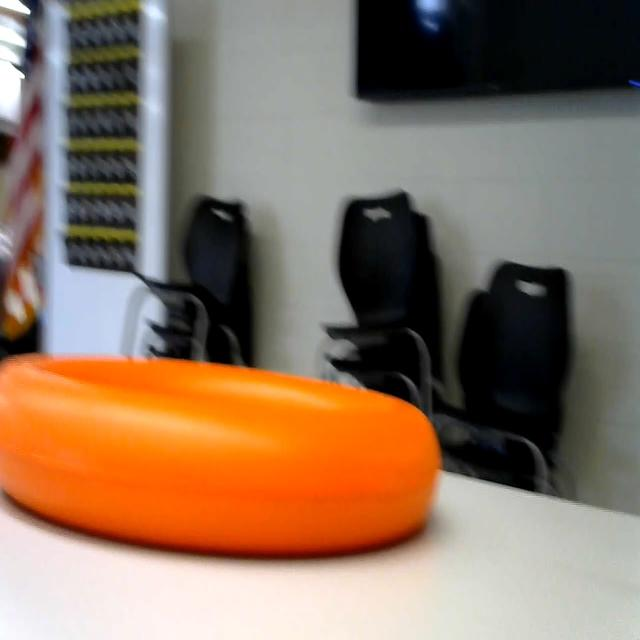note: (0, 353, 449, 549)
